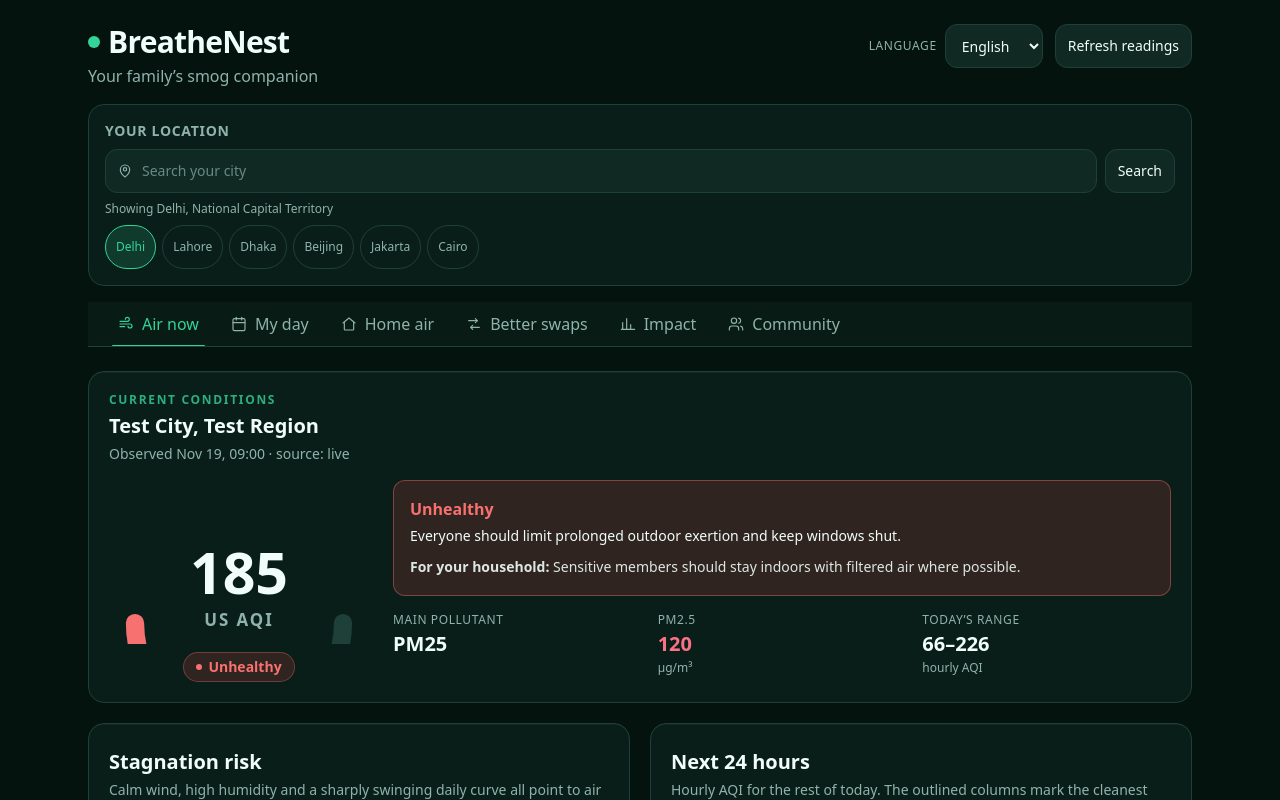
Test: swaps → impact ledger › marks swaps that raise personal exposure
The width and height of the screenshot is (1280, 800).
Click the tab "Better swaps". click: (527, 324)
box: [452,302,602,346]
(page scrolled)
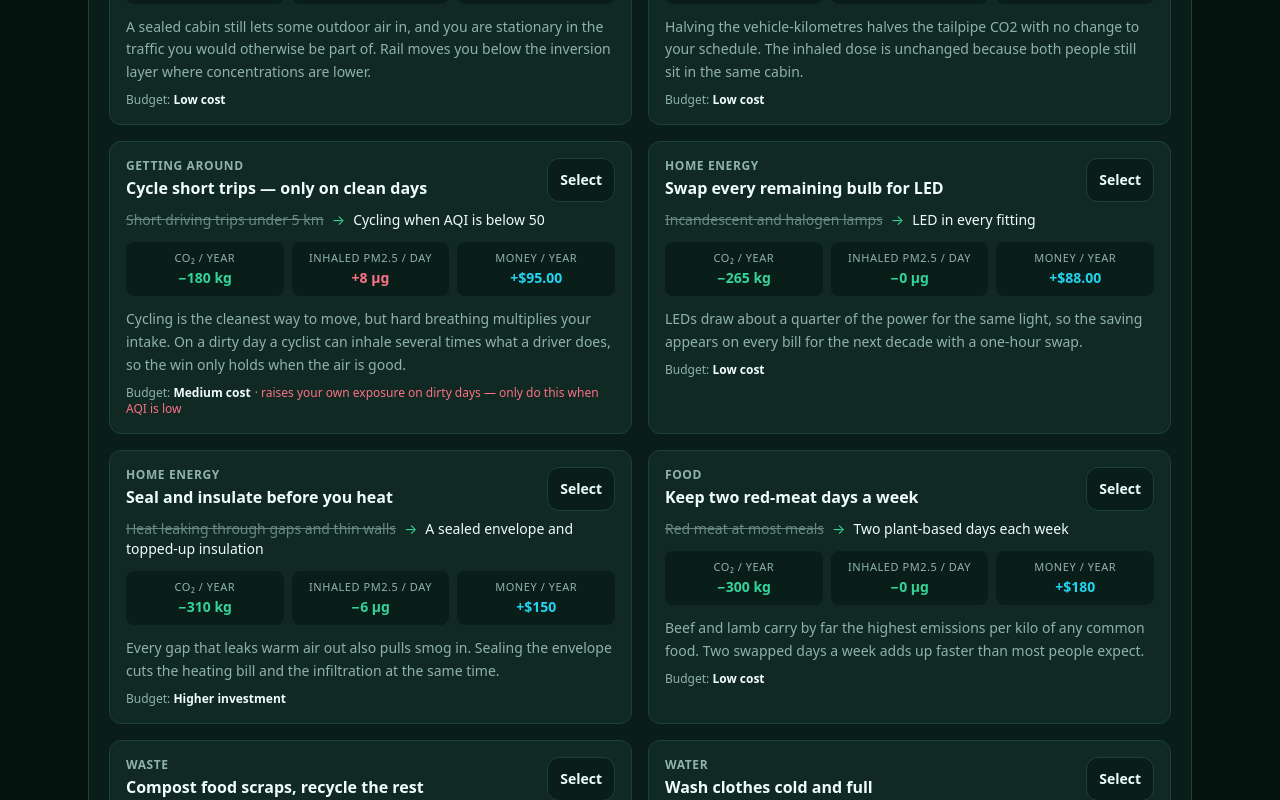
Expected: the text "raises your own exposure on dirty days" is shown, [126,384,599,416]
